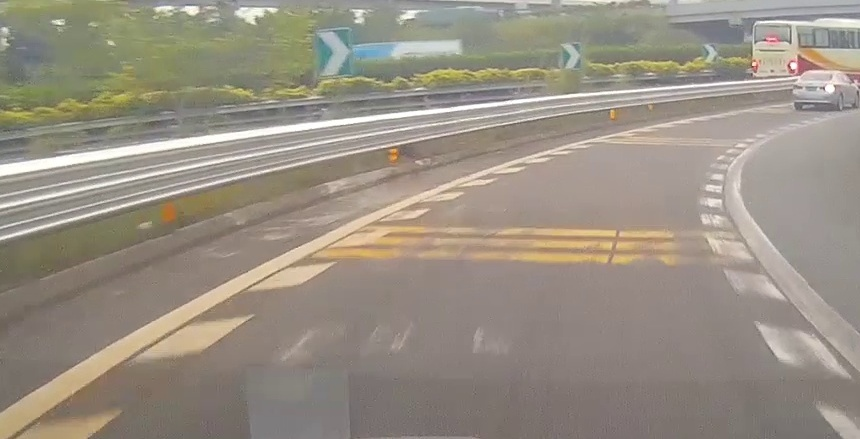L_light: (792, 84, 804, 89)
R_light: (820, 84, 836, 90)
T_light: (817, 71, 824, 73)
day-right: (792, 70, 841, 112)
